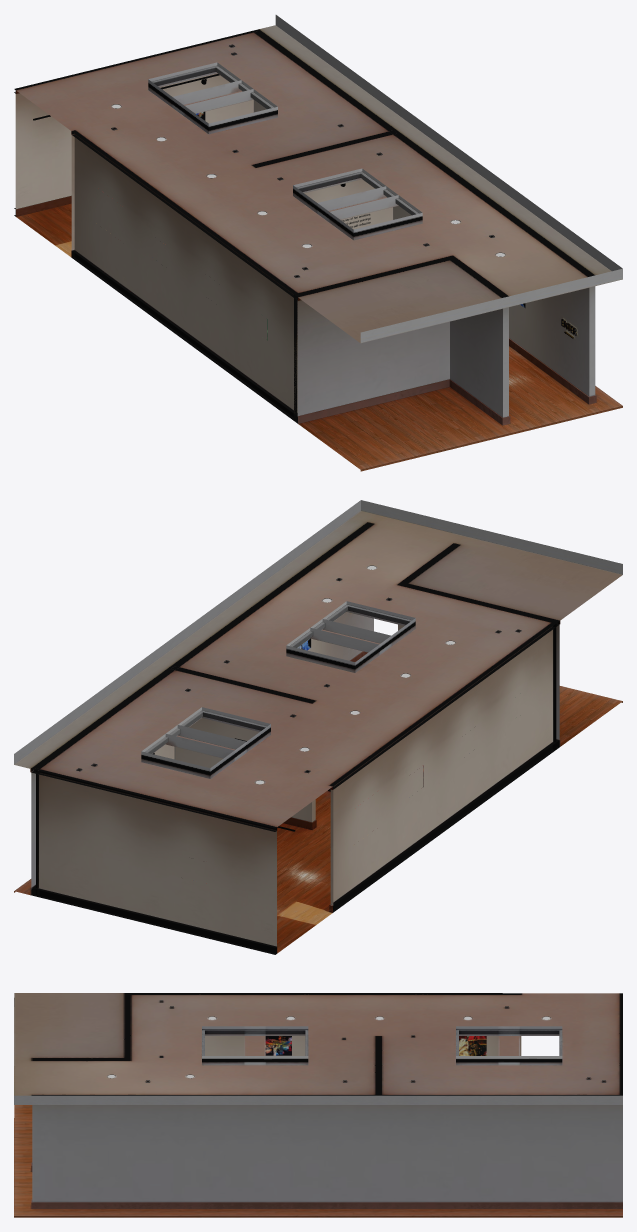
Rendered from asset.glb.
3 views of the same model, one above another, from view 1: azimuth 30°, elevation 25°; view 2: azimuth 150°, elevation 25°; view 3: azimuth 270°, elevation 25° (orthographic). The views are drawn at different scales.
Parts seen in each view (by area): view 1: room_1; view 2: room_1; view 3: room_1.
Part boxes in pixels (<box>): room_1: <box>14,15,622,471</box>; room_1: <box>14,500,622,954</box>; room_1: <box>14,993,622,1217</box>.
Size of the model in its own units: 7.6 by 3.85 by 17.43.
Materials: 4 (4 with a texture image).
